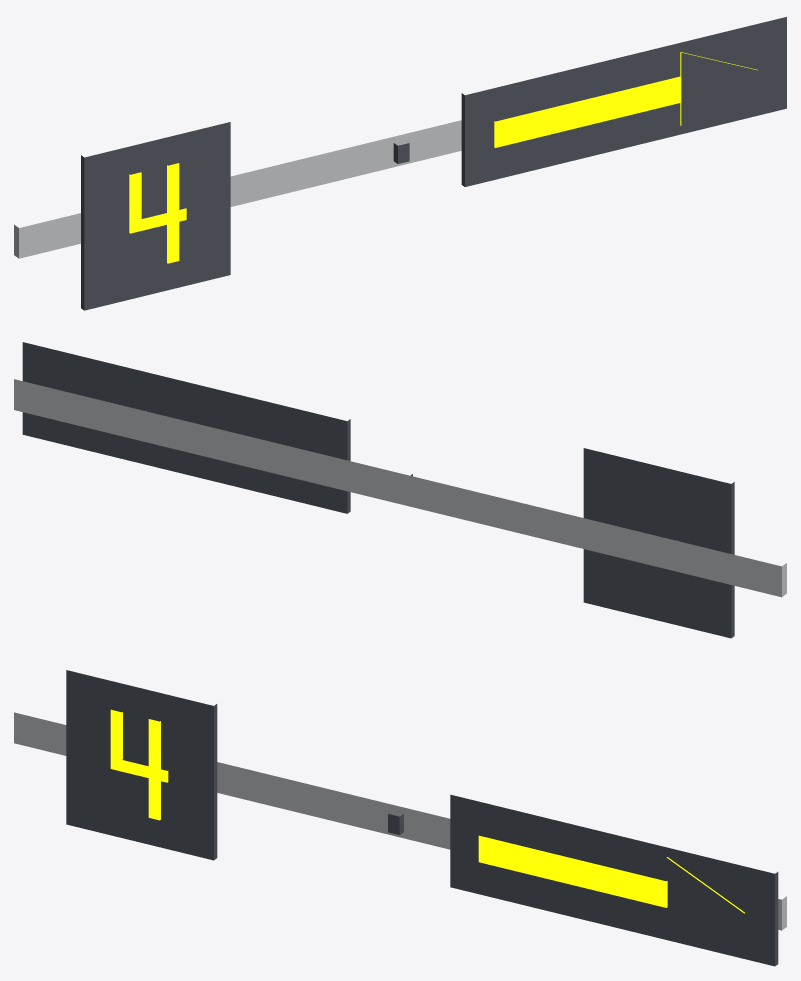
The model's file is ext_sector4_sign_05.glb.
The picture shows the model from 3 angles, top to bottom: view 1: azimuth 30°, elevation 25°; view 2: azimuth 150°, elevation 25°; view 3: azimuth 330°, elevation 25°; orthographic projection.
Parts seen in each view (by area): view 1: Chevron_Plate, Glyph_Plate, Rail, Chevrons, Glyph_4; view 2: Rail, Chevron_Plate, Glyph_Plate; view 3: Chevron_Plate, Glyph_Plate, Rail, Chevrons, Glyph_4.
Boxes of the visible parts, box(x1,y1,x2,y2) form: Chevron_Plate: box(461, 17, 786, 186); Glyph_Plate: box(81, 122, 230, 310); Rail: box(14, 120, 461, 258); Chevrons: box(494, 52, 757, 147); Glyph_4: box(129, 163, 186, 263); Rail: box(14, 379, 786, 597); Chevron_Plate: box(22, 342, 350, 513); Glyph_Plate: box(583, 448, 734, 638); Chevron_Plate: box(450, 794, 778, 966); Glyph_Plate: box(66, 670, 217, 860); Rail: box(14, 712, 786, 930); Chevrons: box(478, 835, 744, 913); Glyph_4: box(110, 709, 168, 820).
Bounding box in the file's own units: 2.6 × 0.5 × 0.076.
